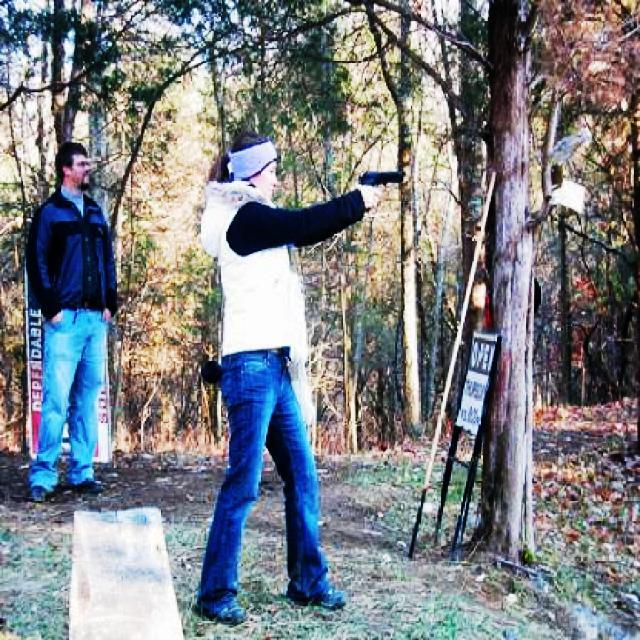Gun: (358, 160, 414, 202)
